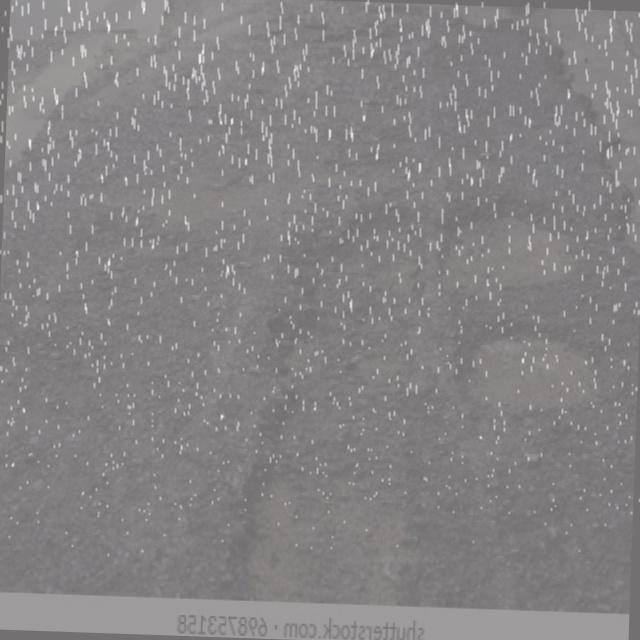Pothole: (240, 440, 422, 610), (275, 272, 416, 406), (460, 312, 613, 412), (437, 189, 582, 285)
